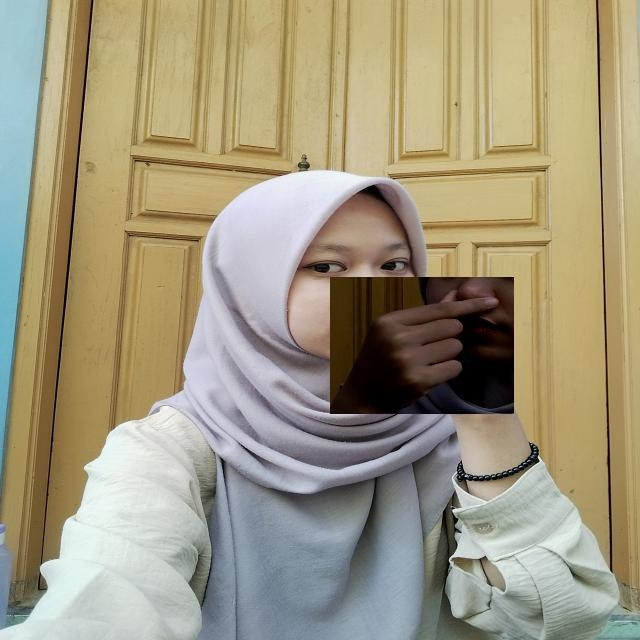bau: (330, 277, 514, 414)
